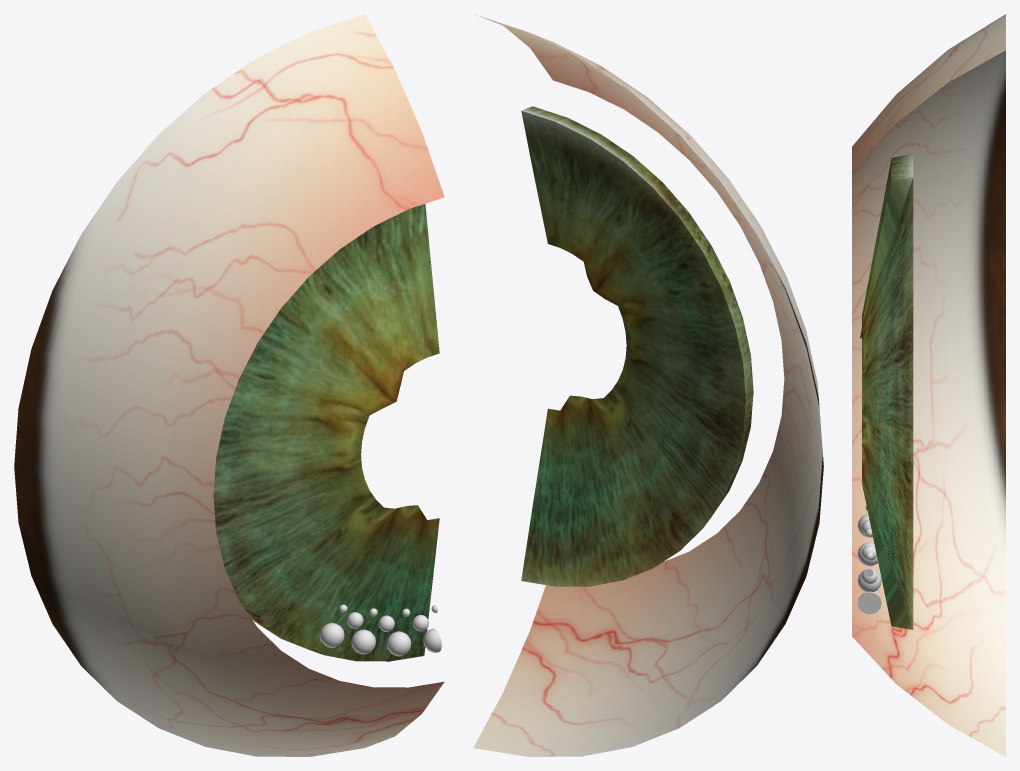
Rendered from Uveitis.FBX.
The picture shows the model from 3 angles, left to right: view 1: azimuth 30°, elevation 25°; view 2: azimuth 150°, elevation 25°; view 3: azimuth 270°, elevation 25°; orthographic projection. The views are drawn at different scales.
Visible parts, largest first — view 1: eInflammation, bIris; view 2: bIris, eInflammation; view 3: eInflammation, bIris, Sphere001.
Part boxes in pixels (x1,y1,x2,y2): eInflammation: (14, 14, 444, 756); bIris: (213, 204, 439, 661); bIris: (521, 106, 753, 586); eInflammation: (473, 15, 823, 756); eInflammation: (852, 14, 1005, 756); bIris: (860, 154, 913, 629); Sphere001: (857, 591, 881, 614).
Bounding box in the file's own units: 0.3828 × 0.7656 × 0.151.
